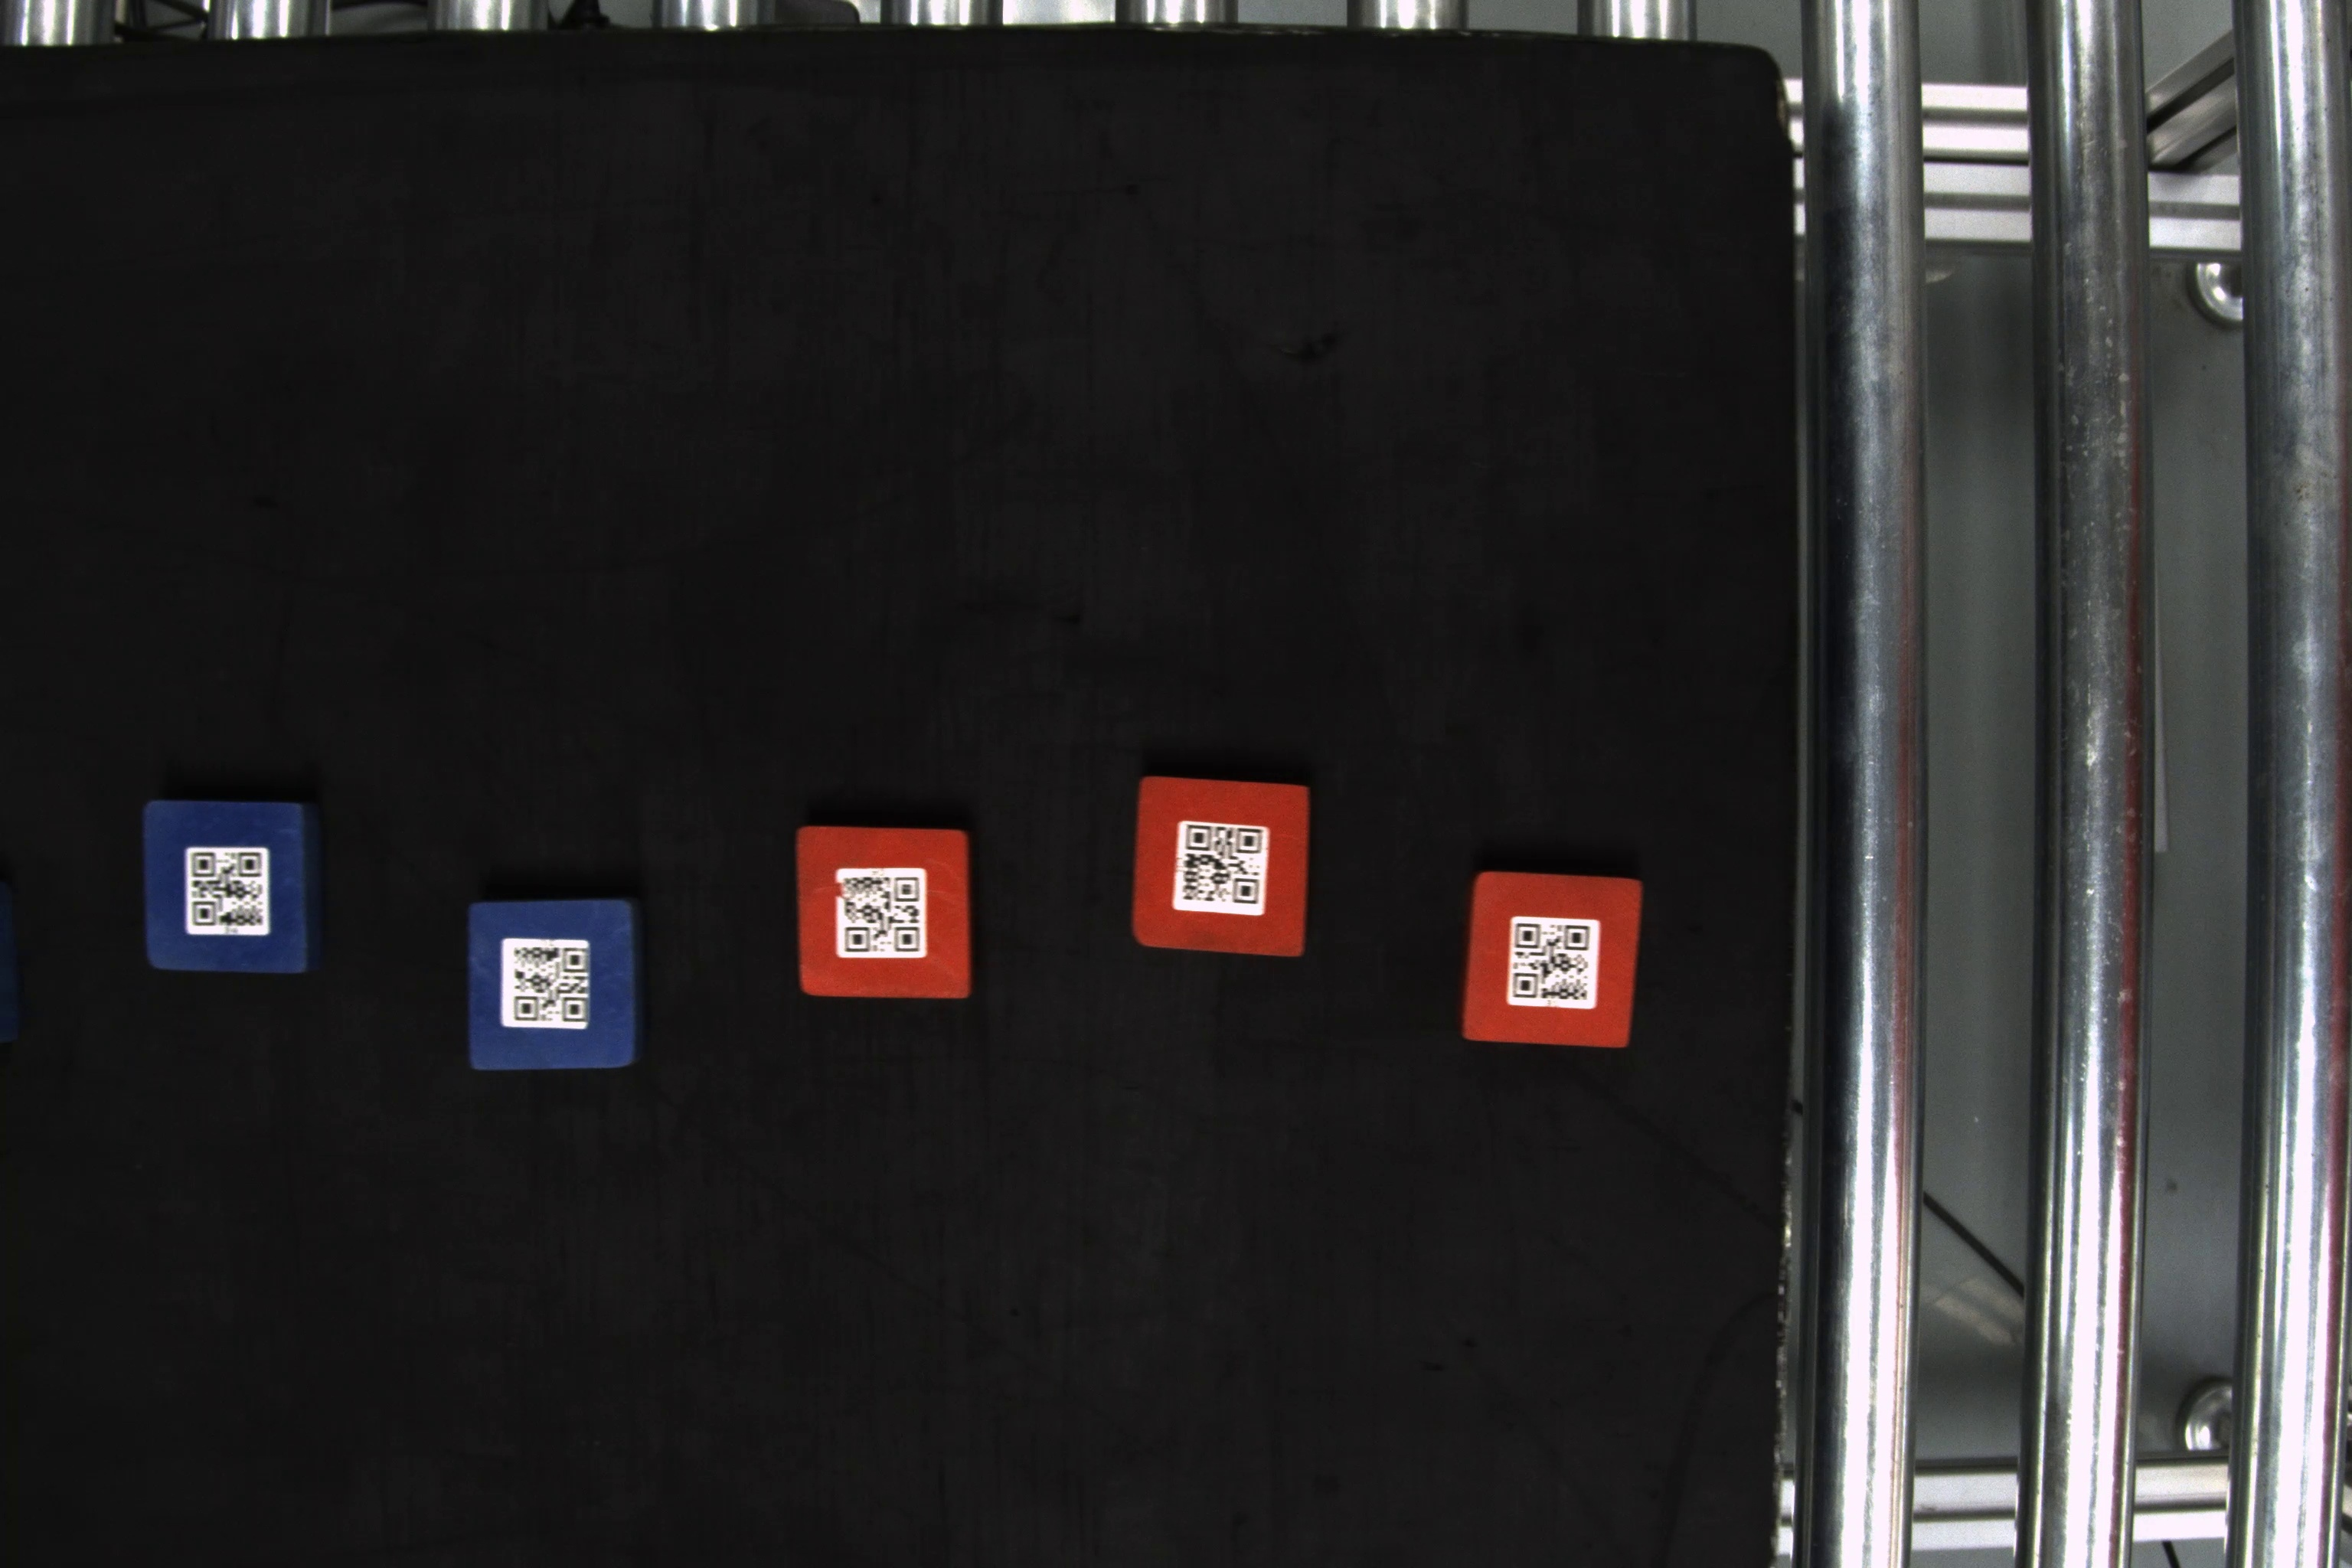wood: (1130, 766, 1319, 961), (457, 889, 644, 1074), (789, 822, 976, 1003), (1465, 864, 1641, 1053), (136, 796, 325, 973)
